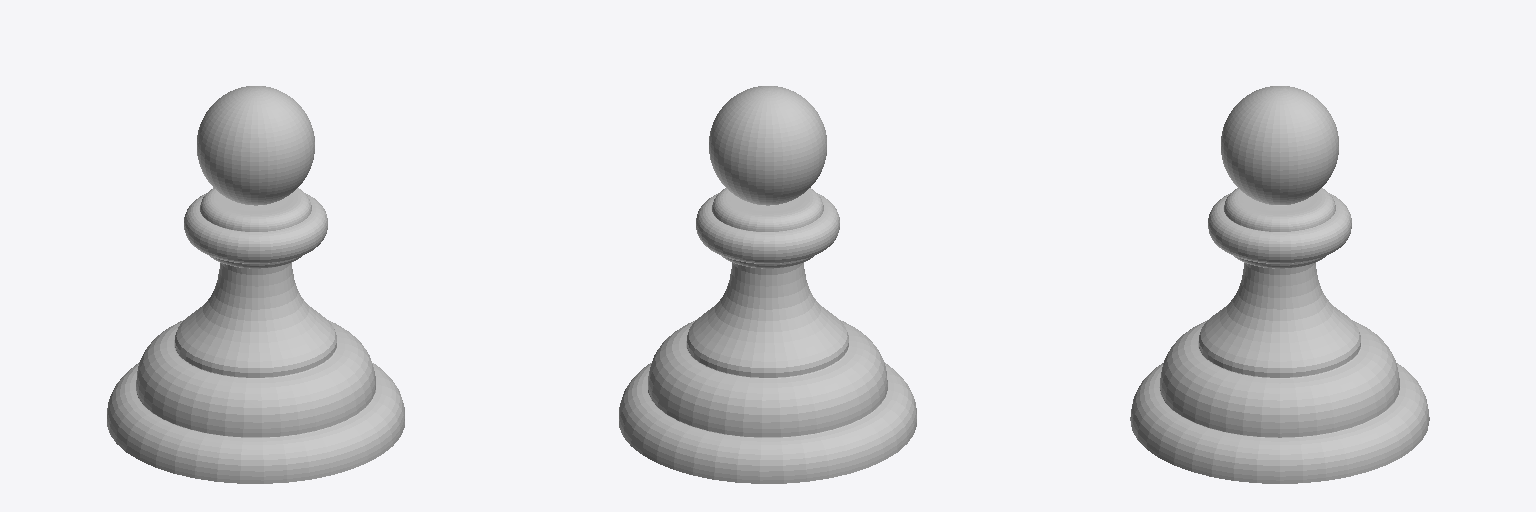
File: finalsoliiderleft3.obj
The picture shows the model from 3 angles: view 1: azimuth 30°, elevation 25°; view 2: azimuth 150°, elevation 25°; view 3: azimuth 270°, elevation 25°; orthographic projection.
Visible parts, largest first — view 1: white_pawn1_Mesh.003; view 2: white_pawn1_Mesh.003; view 3: white_pawn1_Mesh.003.
Boxes of the visible parts, box(x1,y1,x2,y2) form: white_pawn1_Mesh.003: box(107, 86, 404, 483); white_pawn1_Mesh.003: box(619, 86, 916, 483); white_pawn1_Mesh.003: box(1130, 86, 1429, 483).
Bounding box in the file's own units: 0.489 × 0.5954 × 0.489.